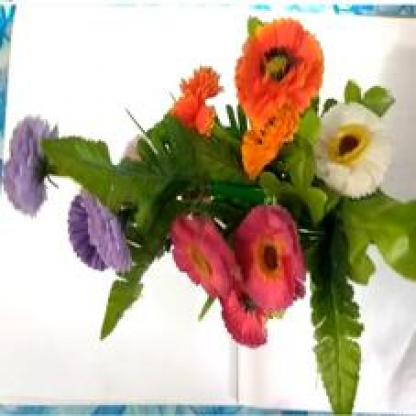flower: (45, 7, 414, 382)
